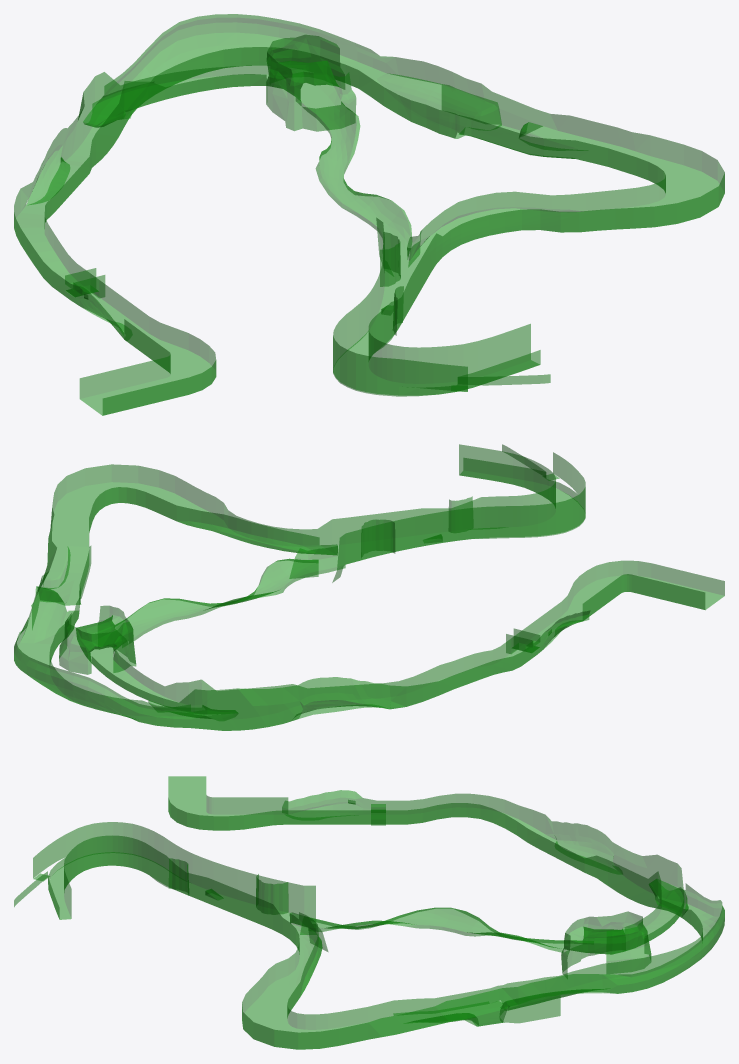
File: _cam.obj
3 views of the same model, one above another, from view 1: azimuth 30°, elevation 25°; view 2: azimuth 150°, elevation 25°; view 3: azimuth 270°, elevation 25° (orthographic). The views are drawn at different scales.
Bounding box in the file's own units: 698 × 64.53 × 749.
